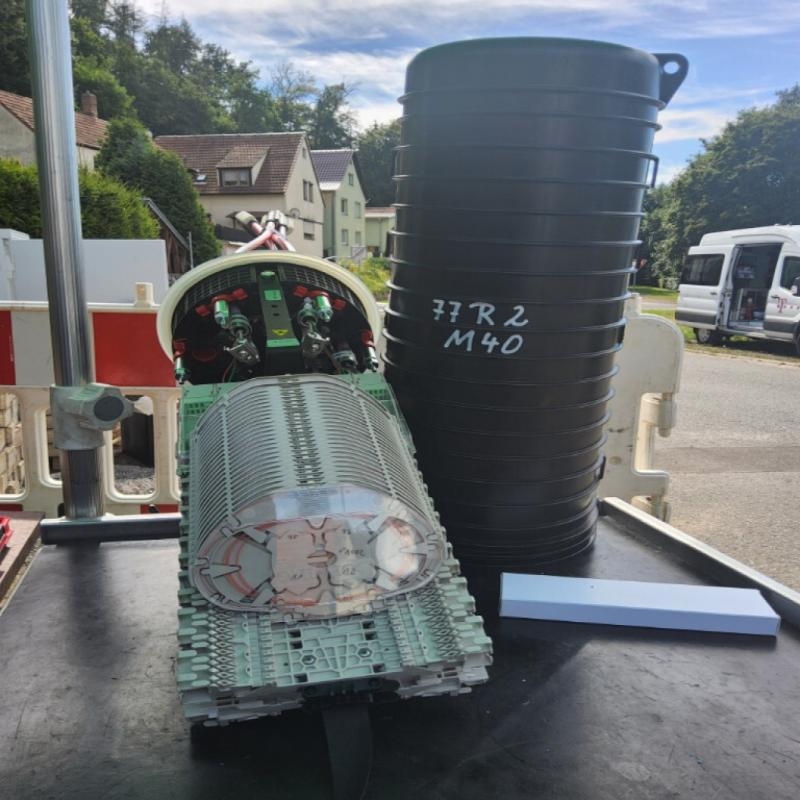NT-Muffen: (149, 251, 505, 725)
